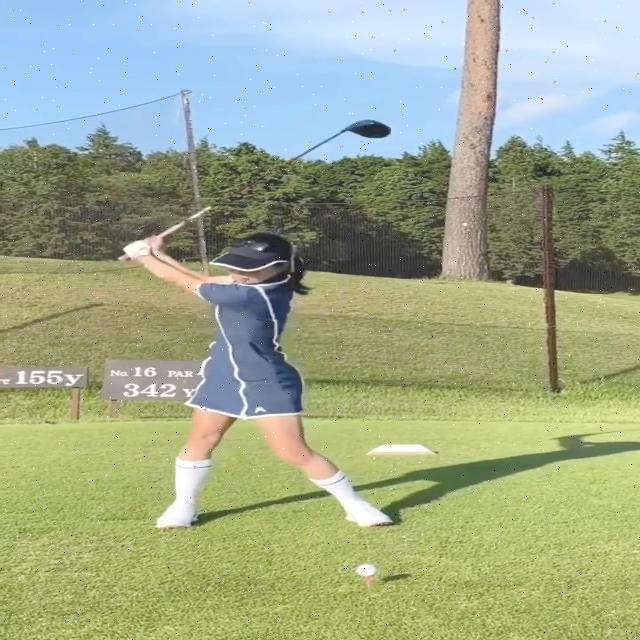ClubHead: (347, 120, 392, 140)
GolfBall: (356, 564, 376, 575)
